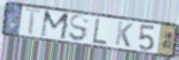5: (137, 22, 158, 52)
K: (114, 20, 134, 49)
L: (92, 17, 108, 47)
M: (39, 9, 72, 41)
S: (67, 14, 91, 44)
T: (23, 6, 45, 37)
